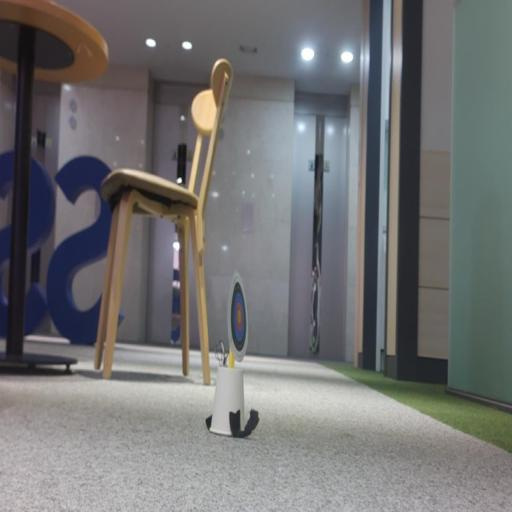target: (228, 272, 248, 361)
